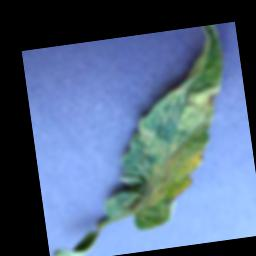Leaf_Mold: (121, 136, 214, 210), (184, 83, 225, 120)
